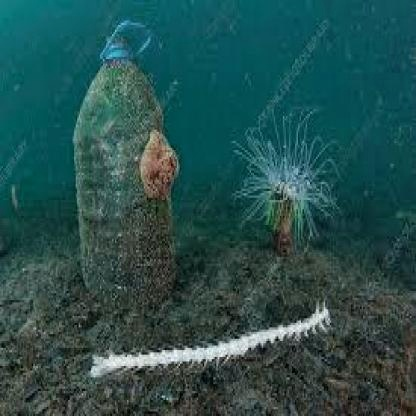pbottle: (62, 16, 183, 307)
